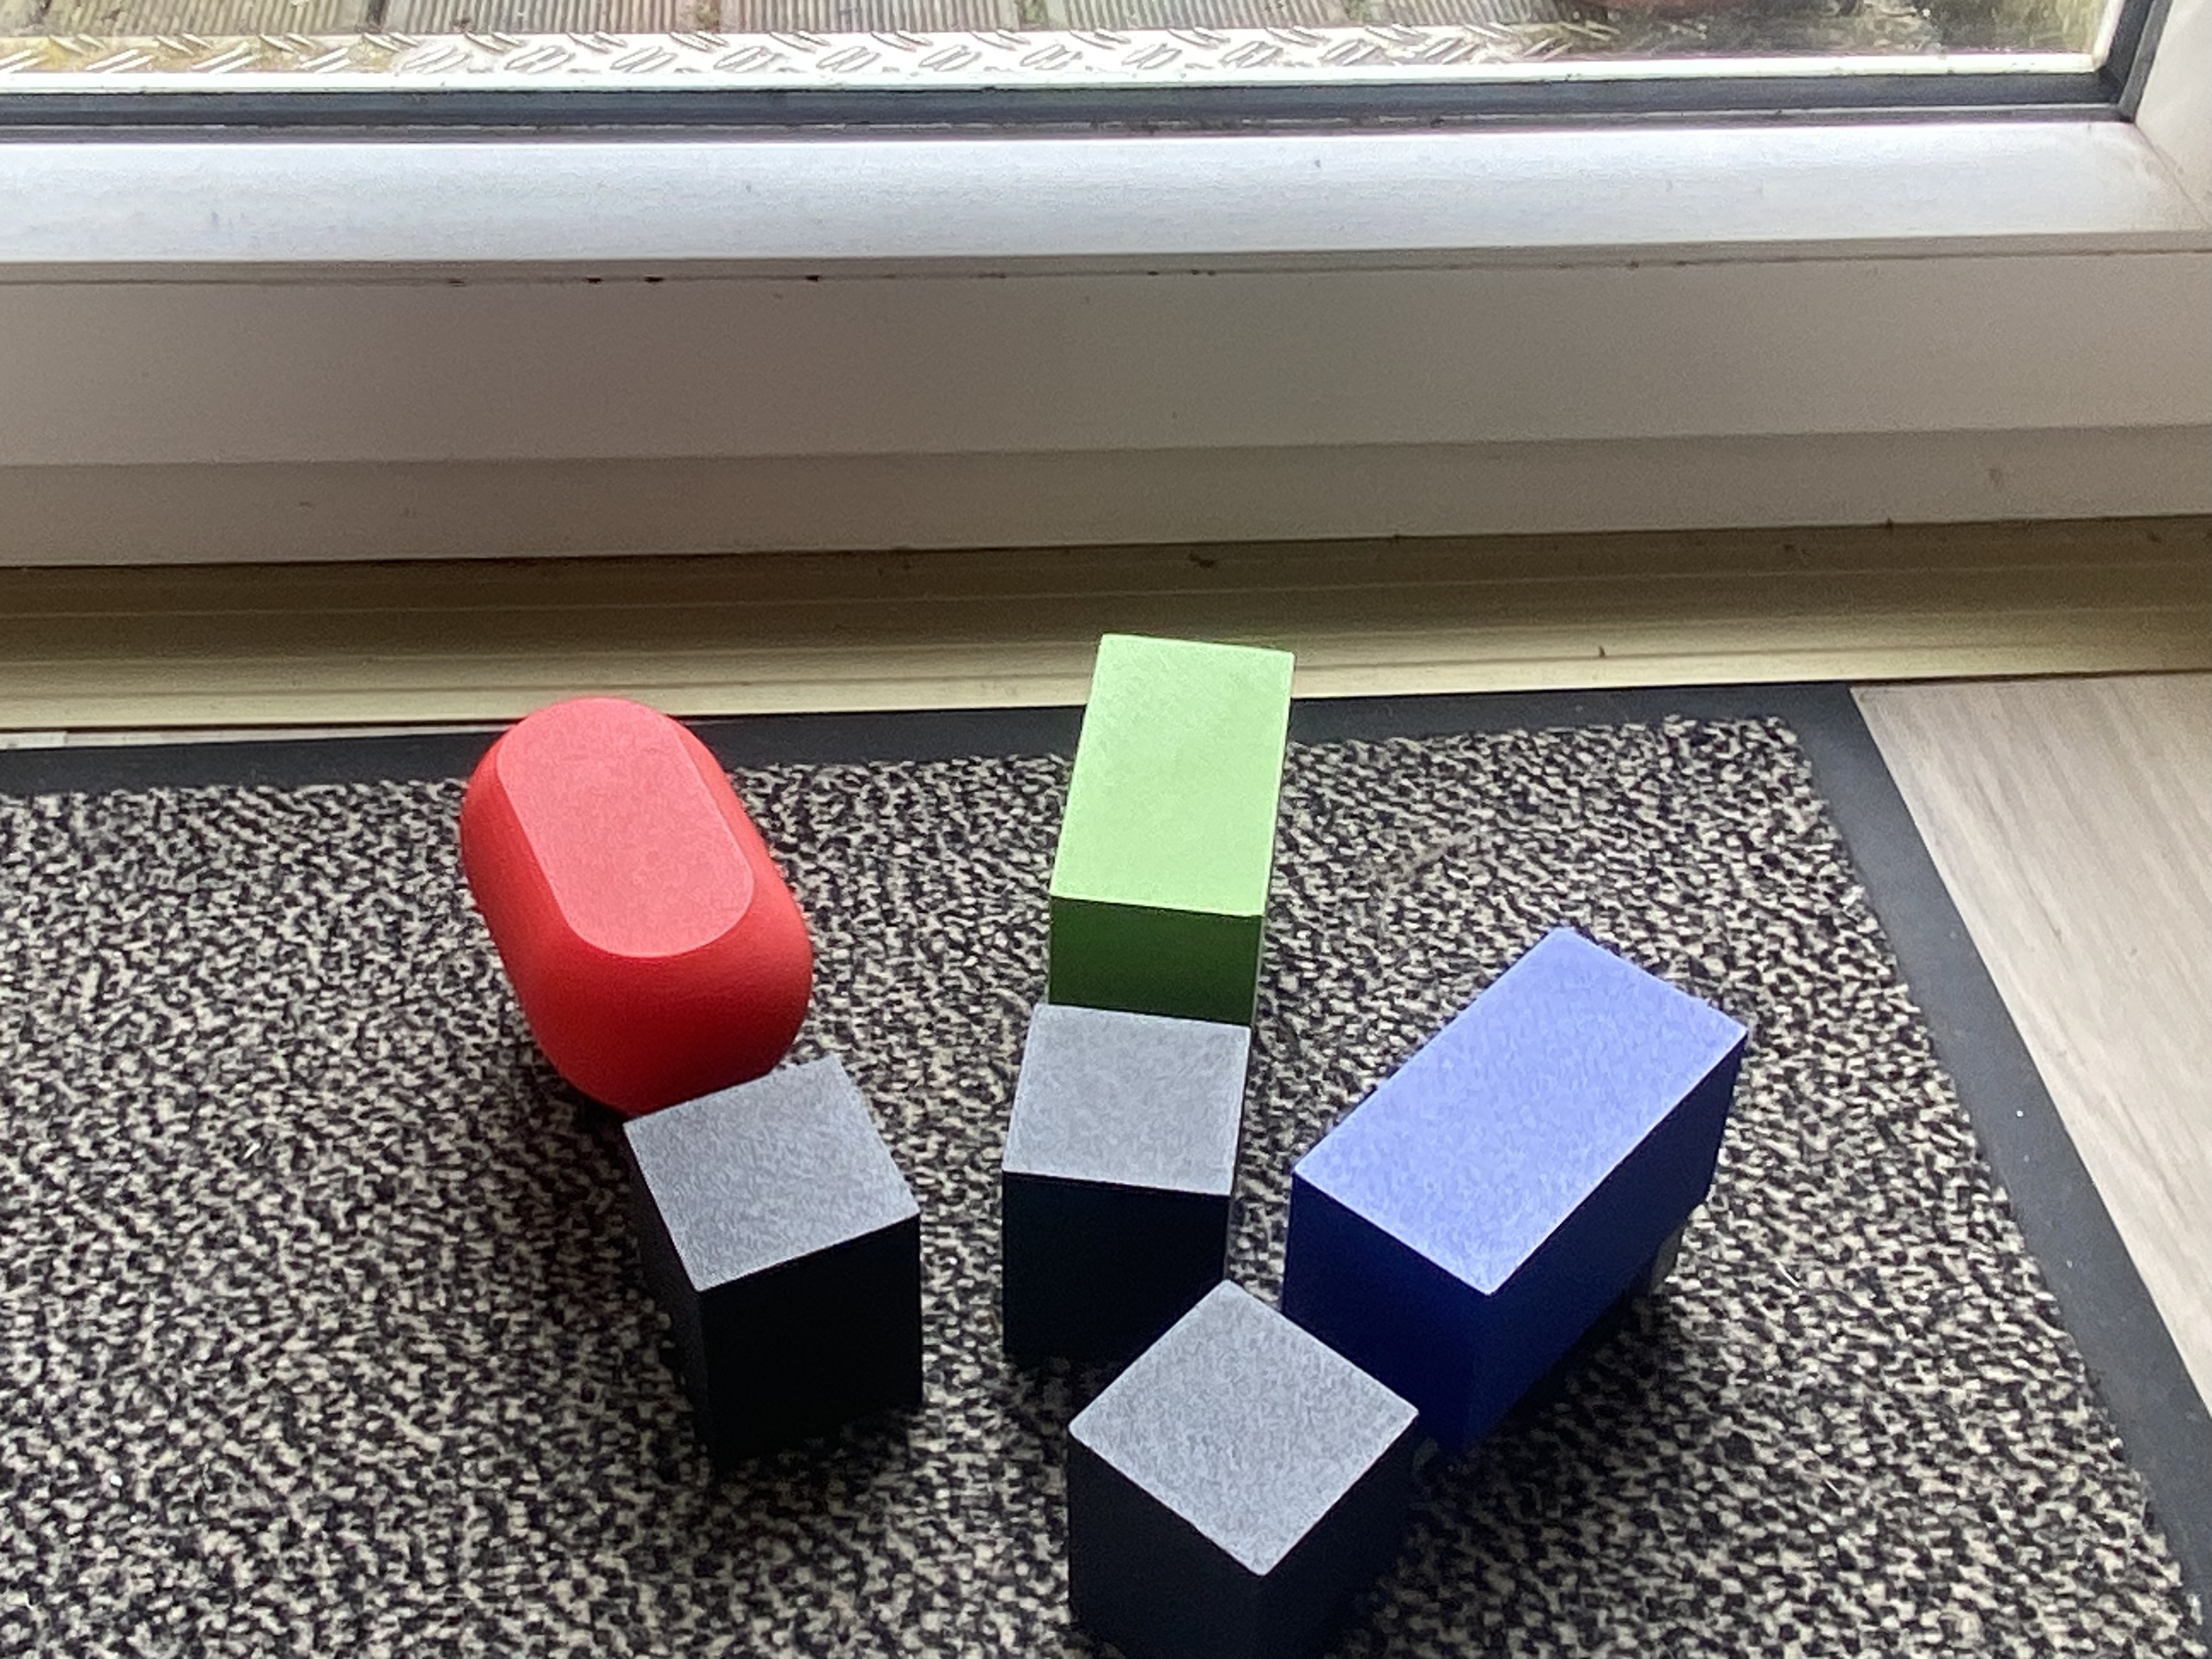blue_truck: (960, 1122, 1848, 1492)
green_truck: (1029, 631, 1259, 1368)
red_truck: (557, 671, 860, 1476)
